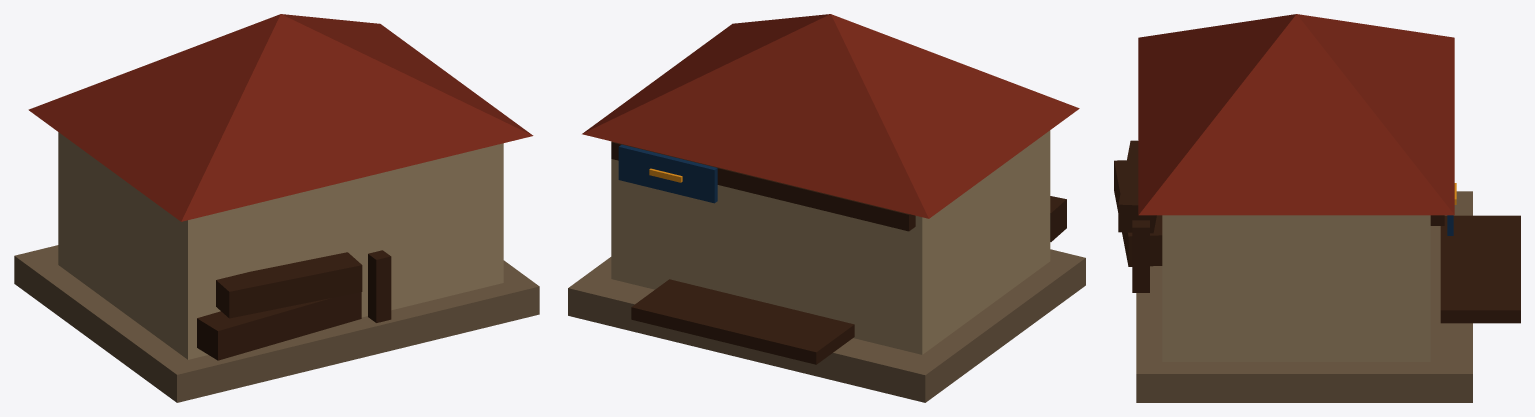
Rendered from LumberCamp_authoring.obj.
3 views of the same model, side by side, from view 1: azimuth 30°, elevation 25°; view 2: azimuth 150°, elevation 25°; view 3: azimuth 270°, elevation 25° (orthographic). The views are drawn at different scales.
Visible parts, largest first — view 1: Roof, StorehouseWalls, Foundation, LogPileUpper, LogPileLower, LogPileBrace; view 2: Roof, StorehouseWalls, Foundation, LoadingPlatform, TimberBeam, Sign, LogPileLower; view 3: Roof, StorehouseWalls, Foundation, LoadingPlatform, LogPileUpper, LogPileBrace, LogPileLower.
Boxes of the visible parts, x1,y1,x2,y2 form: Roof: (28, 14, 533, 221); StorehouseWalls: (58, 132, 503, 359); Foundation: (14, 245, 539, 402); LogPileUpper: (216, 252, 362, 318); LogPileLower: (197, 292, 361, 360); LogPileBrace: (368, 250, 391, 322); Roof: (582, 14, 1079, 218); StorehouseWalls: (611, 130, 1050, 354); Foundation: (568, 249, 1085, 402); LoadingPlatform: (631, 279, 854, 364); TimberBeam: (611, 141, 915, 231); Sign: (618, 144, 717, 203); LogPileLower: (1050, 196, 1066, 241); Roof: (1138, 14, 1454, 215); StorehouseWalls: (1162, 215, 1430, 361); Foundation: (1136, 191, 1472, 402); LoadingPlatform: (1440, 215, 1520, 323); LogPileUpper: (1118, 140, 1156, 233); LogPileBrace: (1132, 220, 1149, 292); LogPileLower: (1114, 160, 1162, 266).
Size of the model in its own units: 5.4 by 4.1 by 5.08.
